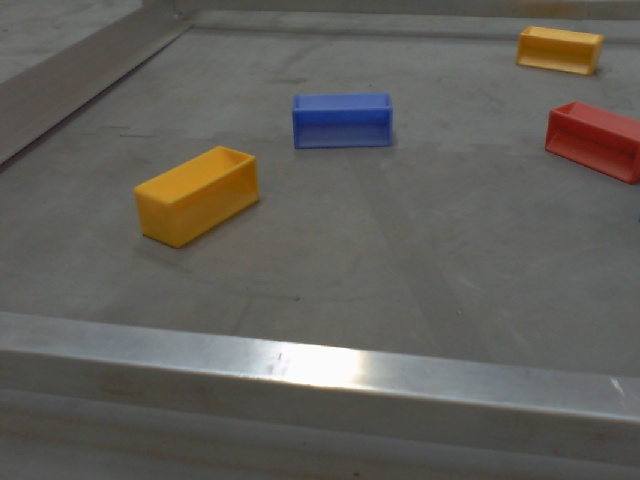BlueSample: (288, 87, 397, 152)
RedSample: (542, 93, 640, 188)
YellowSample: (129, 144, 266, 251), (514, 24, 604, 80)
